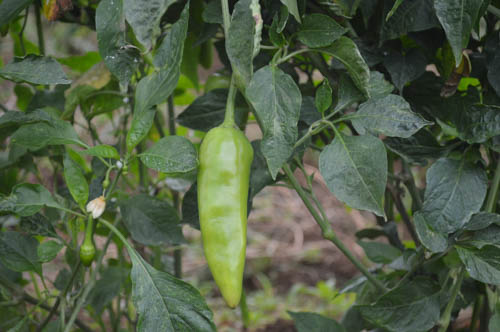ChiliPepper: (194, 128, 252, 311)
